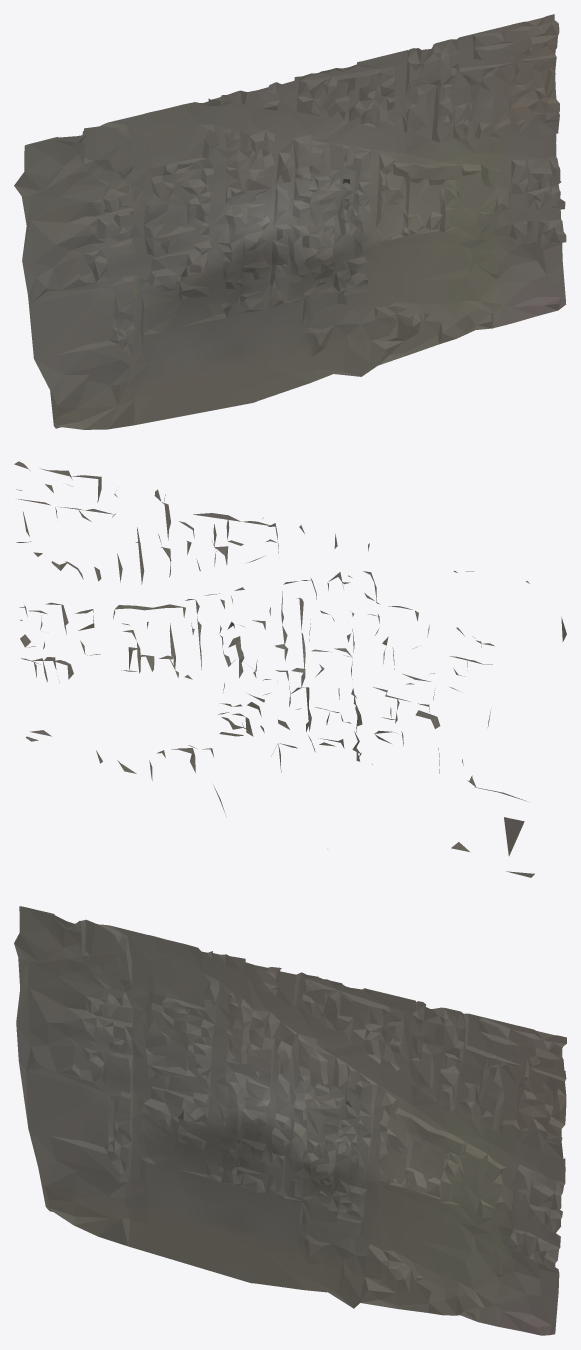
3 renders of one model, top to bottom at view 1: azimuth 30°, elevation 25°; view 2: azimuth 150°, elevation 25°; view 3: azimuth 330°, elevation 25°, orthographic. The views are drawn at different scales.
Bounding box in the file's own units: 463 × 255 × 24.99.
1 material, 1 textured.
